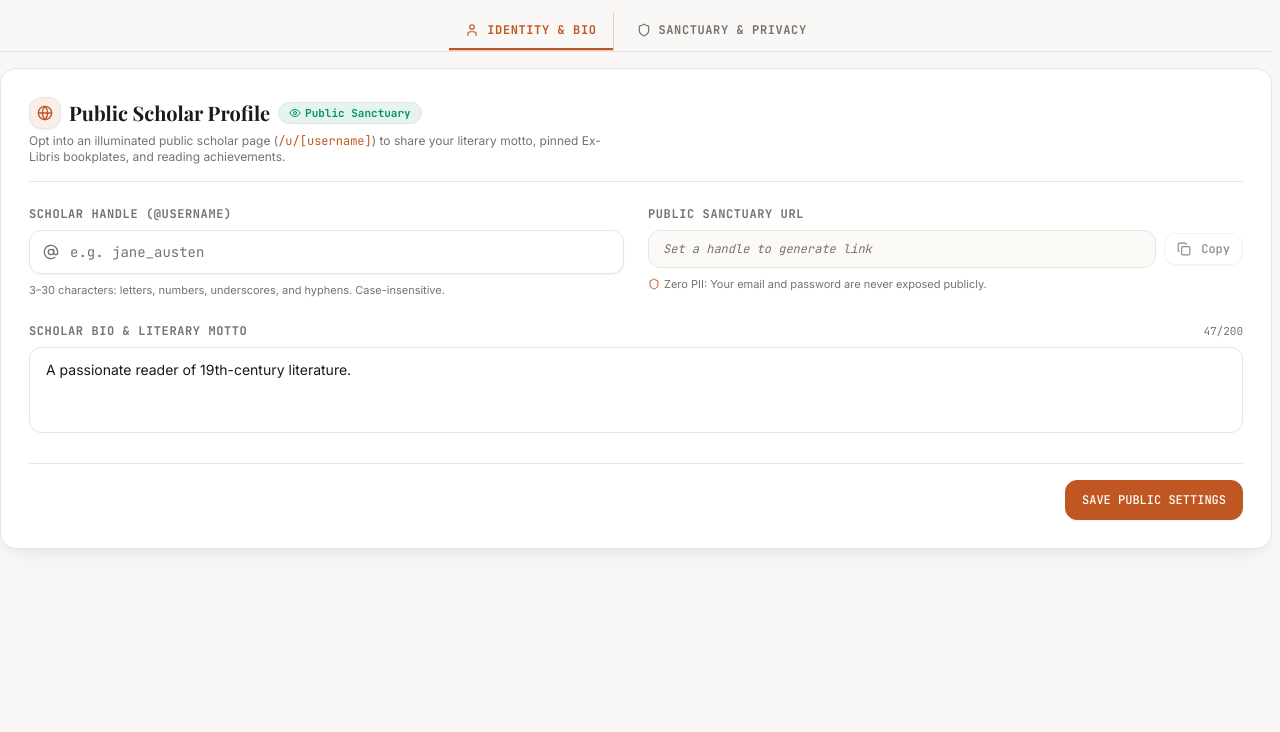
Test: AccountPublicProfileSection › blocks submission and displays error when public is enabled without username
Click the button "Save Public Settings": (1154, 500) x1=1065 y1=480 x2=1243 y2=520
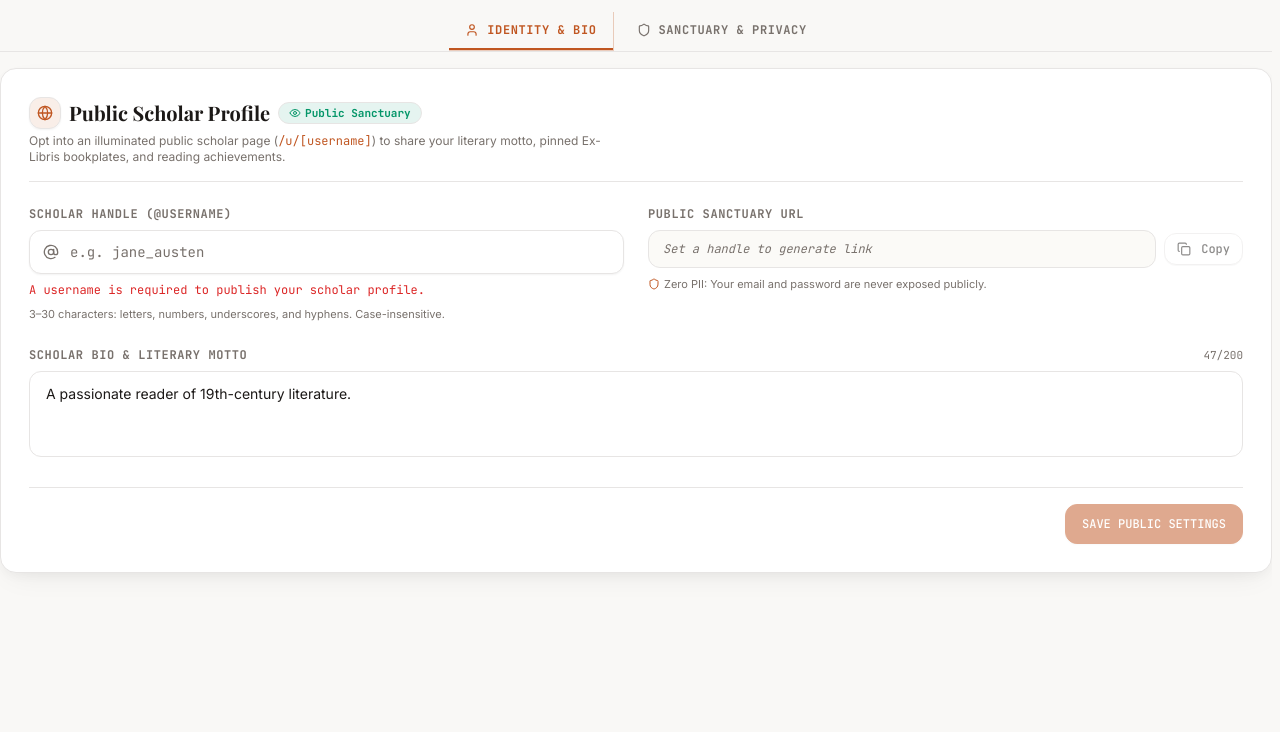
Now the text "A username is required to publish your scholar profile." is shown, box x1=29 y1=282 x2=425 y2=298
